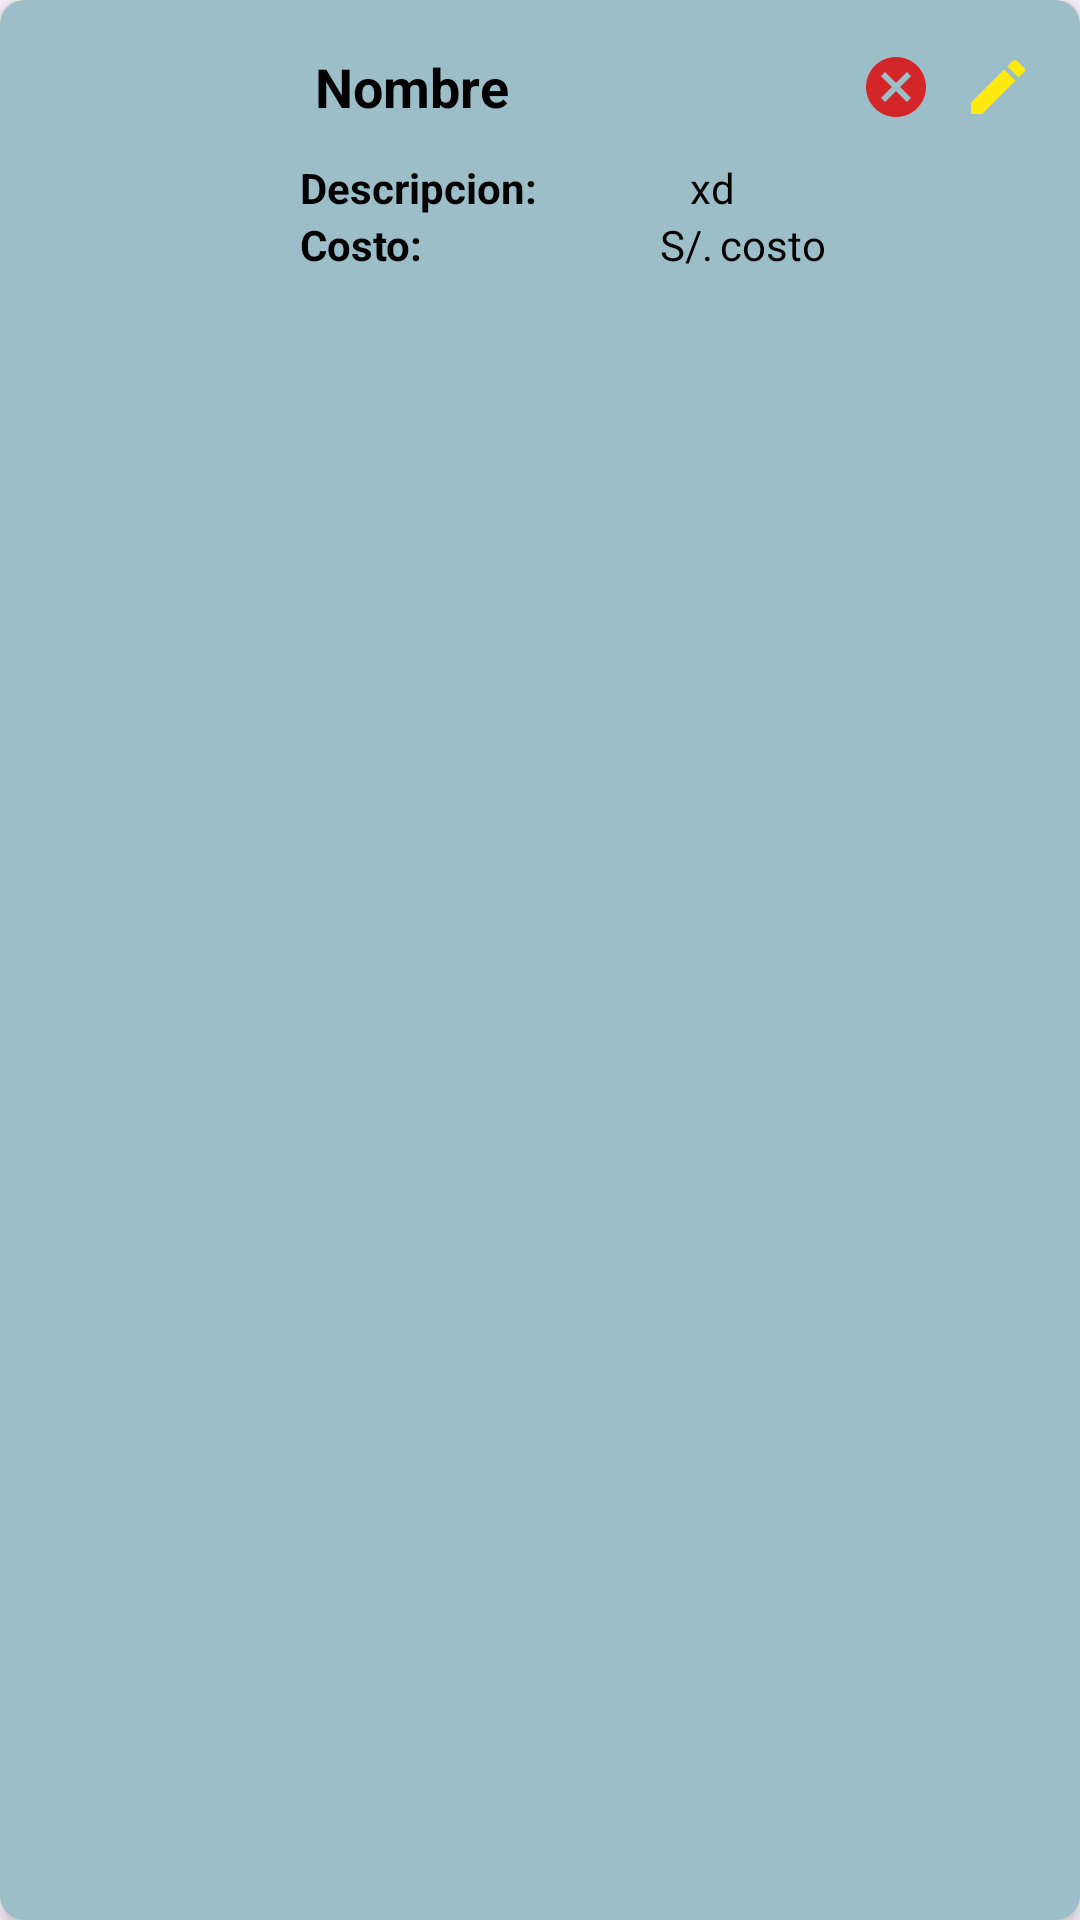

Icon click points for this 1080 × 1920 phone screenshot, format [x,y]:
cancel: [896,87]
edit: [998,87]
